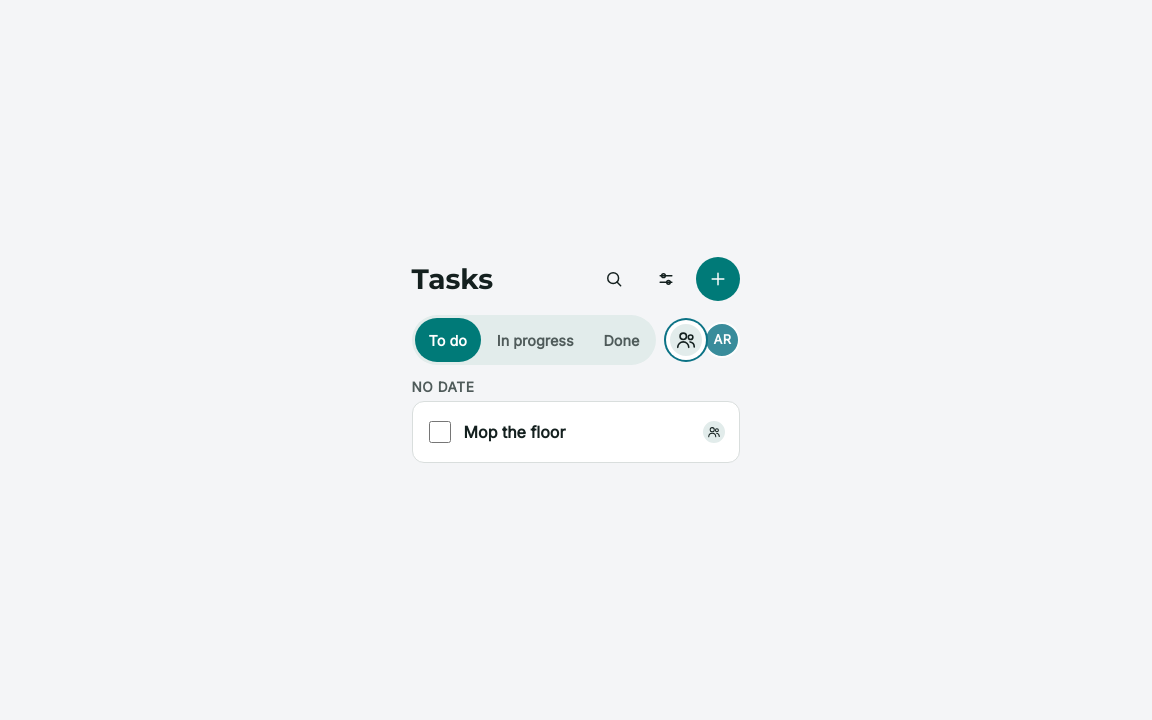
Test: TasksPage › the plus button opens an empty task form, and a row opens that task
Expected: the text "Mop the floor" is shown, [464, 422, 566, 442]
Click the button named "New task" at coordinates (718, 279), box [696, 257, 740, 301]
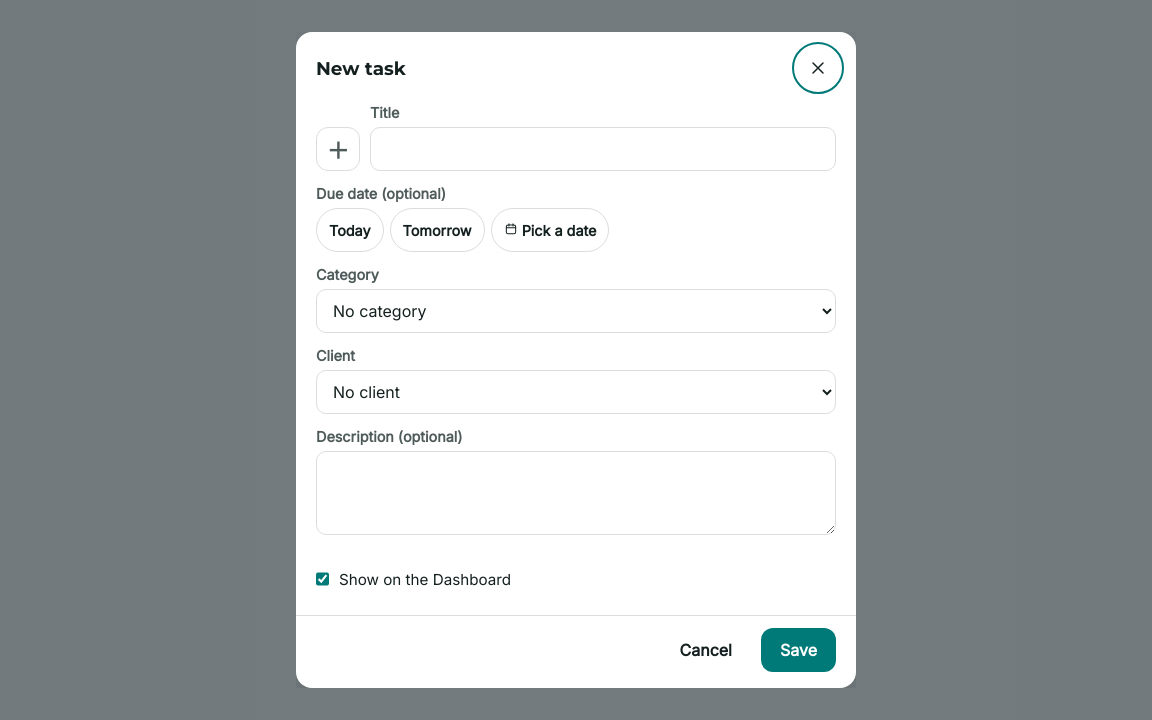
Expected: the dialog "New task" is shown, [296, 32, 856, 688]
Click the button "Cancel" at coordinates (706, 650), box [660, 628, 751, 672]
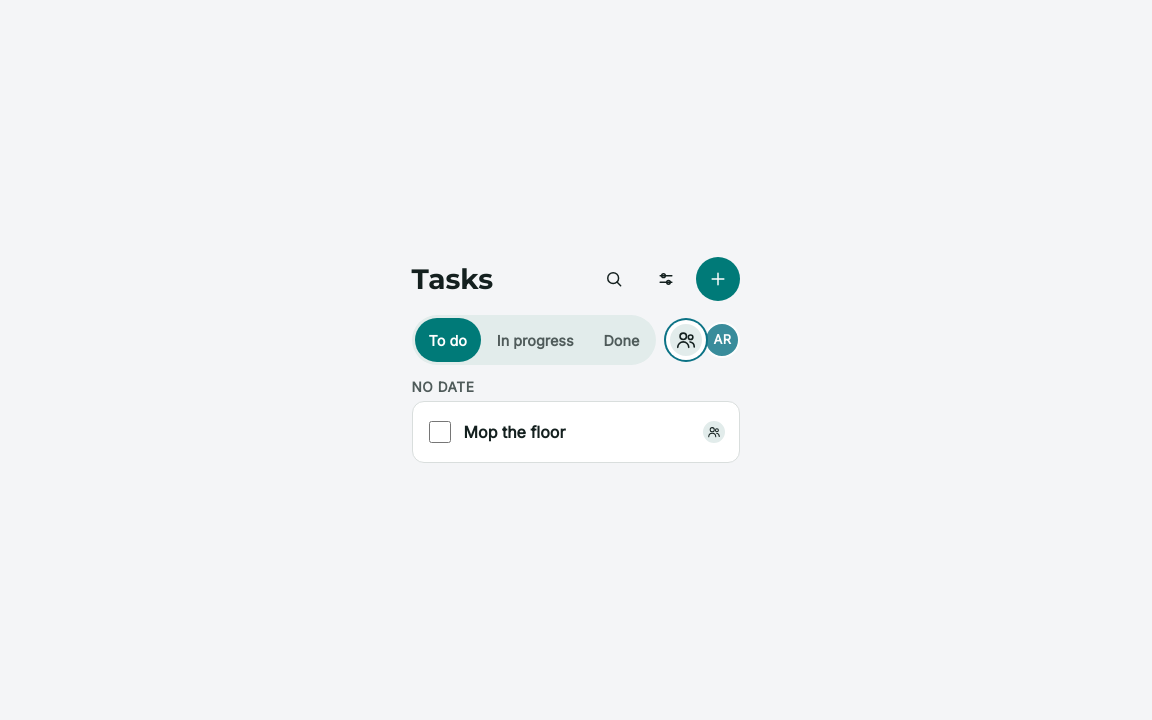
Expected: the dialog is gone
Click the button "Mop the floor" at coordinates (578, 432), box [464, 410, 691, 454]
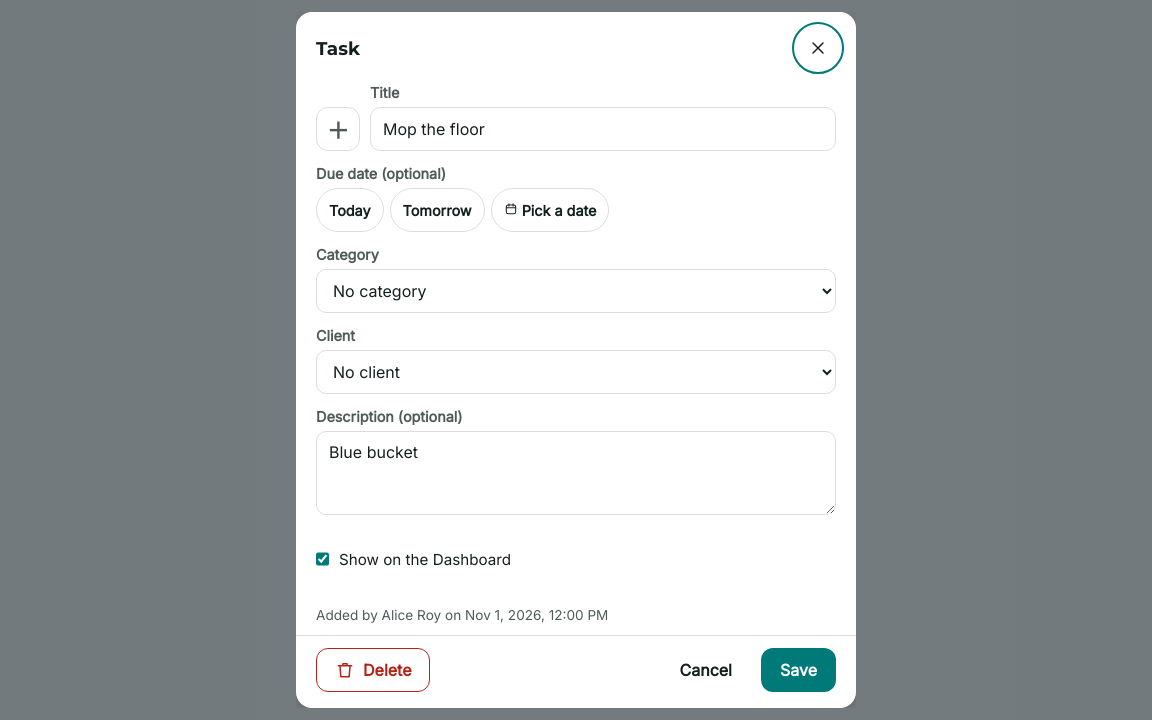
Expected: the text box showing "Blue bucket" is shown, [316, 431, 836, 515]
